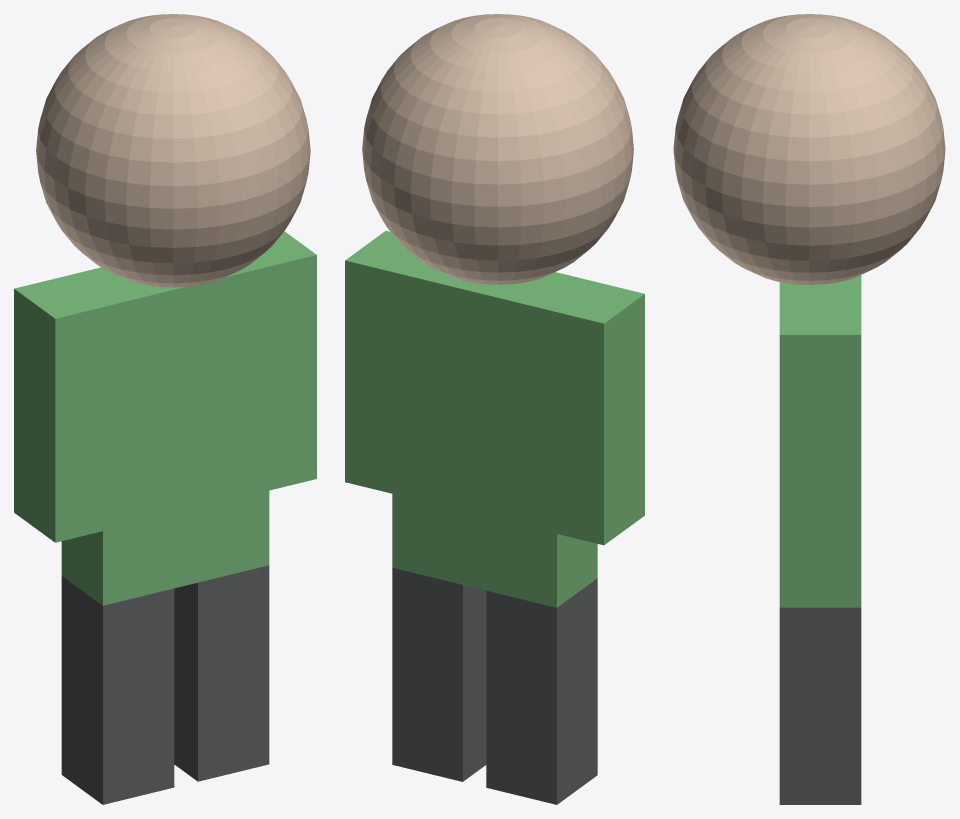
The model's file is Don_Mateo.glb.
The picture shows the model from 3 angles, left to right: view 1: azimuth 30°, elevation 25°; view 2: azimuth 150°, elevation 25°; view 3: azimuth 270°, elevation 25°; orthographic projection.
Visible parts, largest first — view 1: Mesh_Mesh_head_geo.001_lambert2SG.001; view 2: Mesh_Mesh_head_geo.001_lambert2SG.001; view 3: Mesh_Mesh_head_geo.001_lambert2SG.001.
Part boxes in pixels (bbox=[...]): Mesh_Mesh_head_geo.001_lambert2SG.001: bbox=[14, 14, 316, 804]; Mesh_Mesh_head_geo.001_lambert2SG.001: bbox=[345, 14, 644, 804]; Mesh_Mesh_head_geo.001_lambert2SG.001: bbox=[673, 14, 945, 804].
Bounding box in the file's own units: 11 × 30 × 10.
